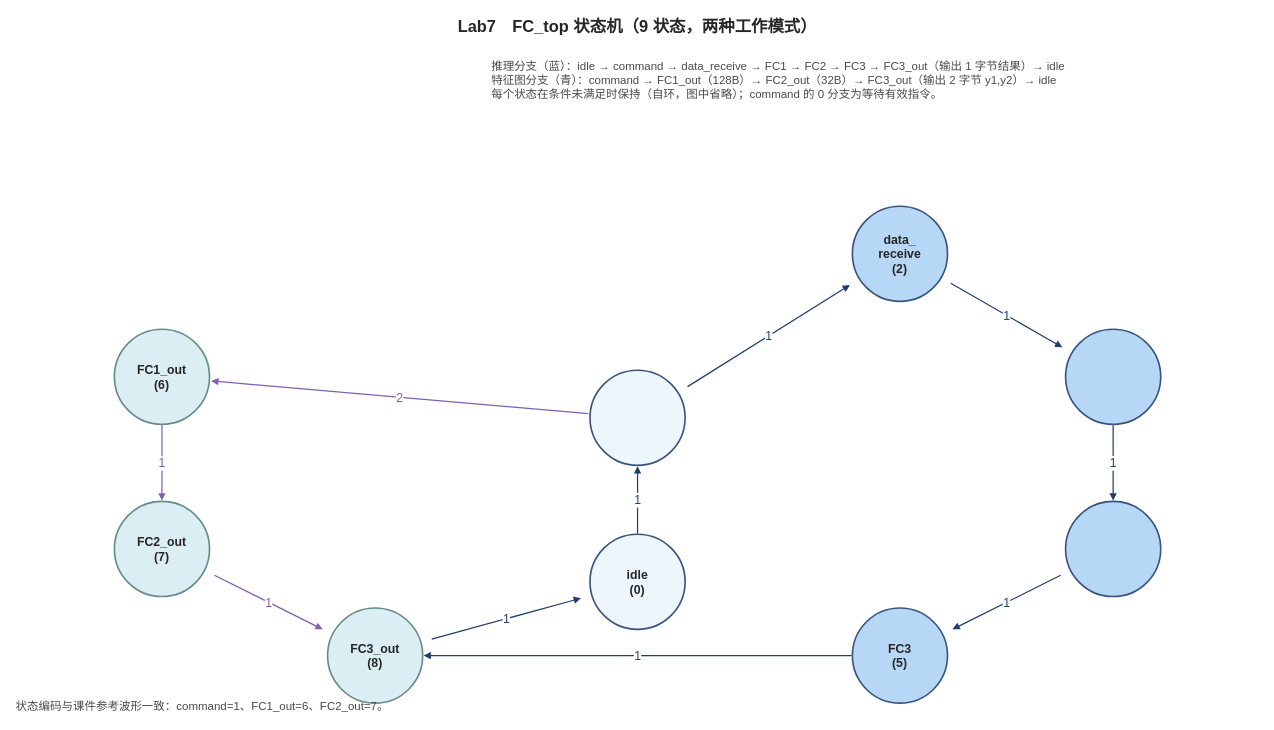
This 1274x730 diagram has some shape labels left out. The shapes that lost their labels are listed below. From the top down, each one's box as (x1, y1, x2, y2) in pixels, then its label:
(1064, 328, 1161, 425): FC1 (3)
(589, 369, 686, 466): command (1)
(1064, 500, 1161, 597): FC2 (4)
